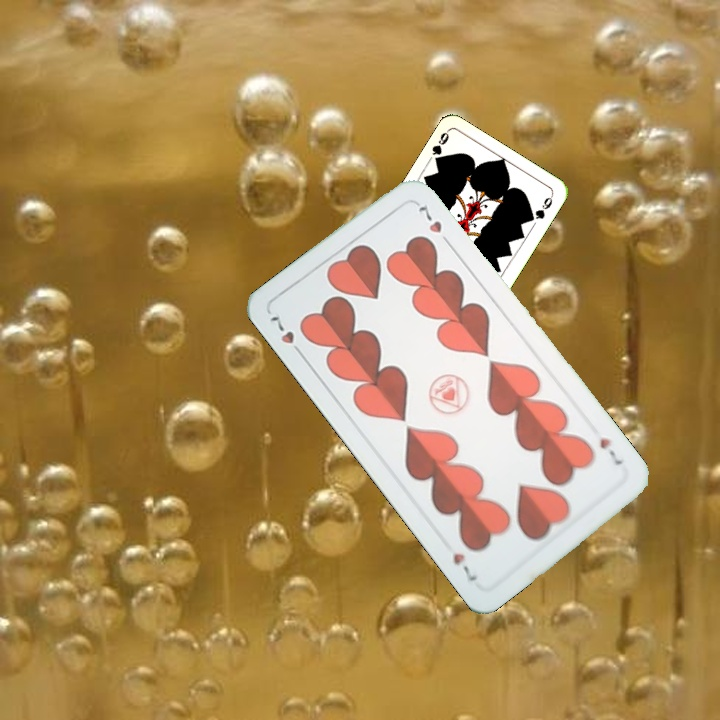G9: (428, 127, 452, 167)
H7: (266, 308, 307, 360), (595, 433, 625, 469)
